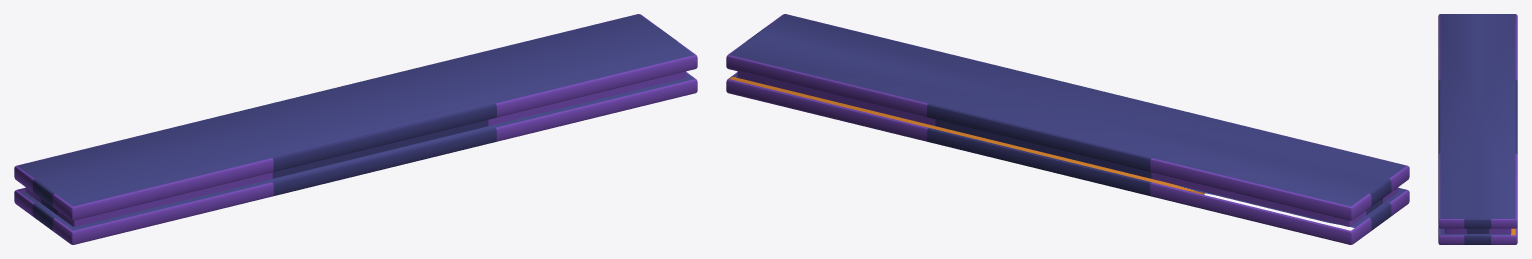
File: Table_Top_long.fbx
The picture shows the model from 3 angles, left to right: view 1: azimuth 30°, elevation 25°; view 2: azimuth 150°, elevation 25°; view 3: azimuth 270°, elevation 25°; orthographic projection. The views are drawn at different scales.
Visible parts, largest first — view 1: mdl_Table_01_5; view 2: mdl_Table_01_5; view 3: mdl_Table_01_5.
Boxes of the visible parts, bbox=[...] form: mdl_Table_01_5: bbox=[14, 14, 697, 244]; mdl_Table_01_5: bbox=[726, 14, 1409, 244]; mdl_Table_01_5: bbox=[1438, 14, 1517, 244].
Bounding box in the file's own units: 620 × 36.3 × 100.
Materials: 1 (1 with a texture image).
